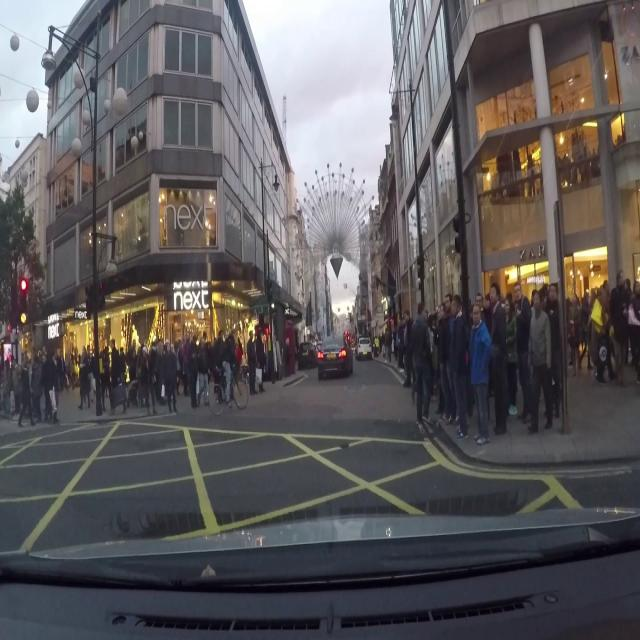body: (526, 287, 554, 436), (466, 301, 494, 448), (408, 300, 436, 433), (448, 293, 472, 441), (487, 280, 509, 438), (543, 280, 567, 420), (66, 342, 112, 412), (512, 279, 534, 425), (589, 278, 617, 386), (32, 344, 66, 425), (425, 301, 447, 415), (136, 334, 164, 419), (609, 268, 629, 386), (502, 294, 520, 418), (372, 314, 405, 371), (444, 292, 457, 426), (498, 279, 550, 310), (160, 341, 180, 415), (16, 354, 36, 428), (576, 290, 594, 372), (110, 338, 128, 417), (567, 292, 582, 378), (171, 336, 191, 396), (401, 308, 415, 390), (629, 281, 640, 384), (211, 328, 227, 396), (186, 333, 200, 409), (221, 332, 235, 403), (254, 327, 268, 393), (77, 345, 91, 411), (125, 338, 138, 406), (246, 329, 258, 395), (10, 358, 22, 423), (1, 358, 12, 415), (468, 287, 490, 315), (6, 348, 31, 368), (576, 297, 584, 354), (566, 294, 572, 366), (234, 334, 244, 377), (475, 292, 487, 322), (624, 278, 634, 310), (117, 344, 125, 383), (197, 330, 209, 348), (204, 337, 218, 350)
